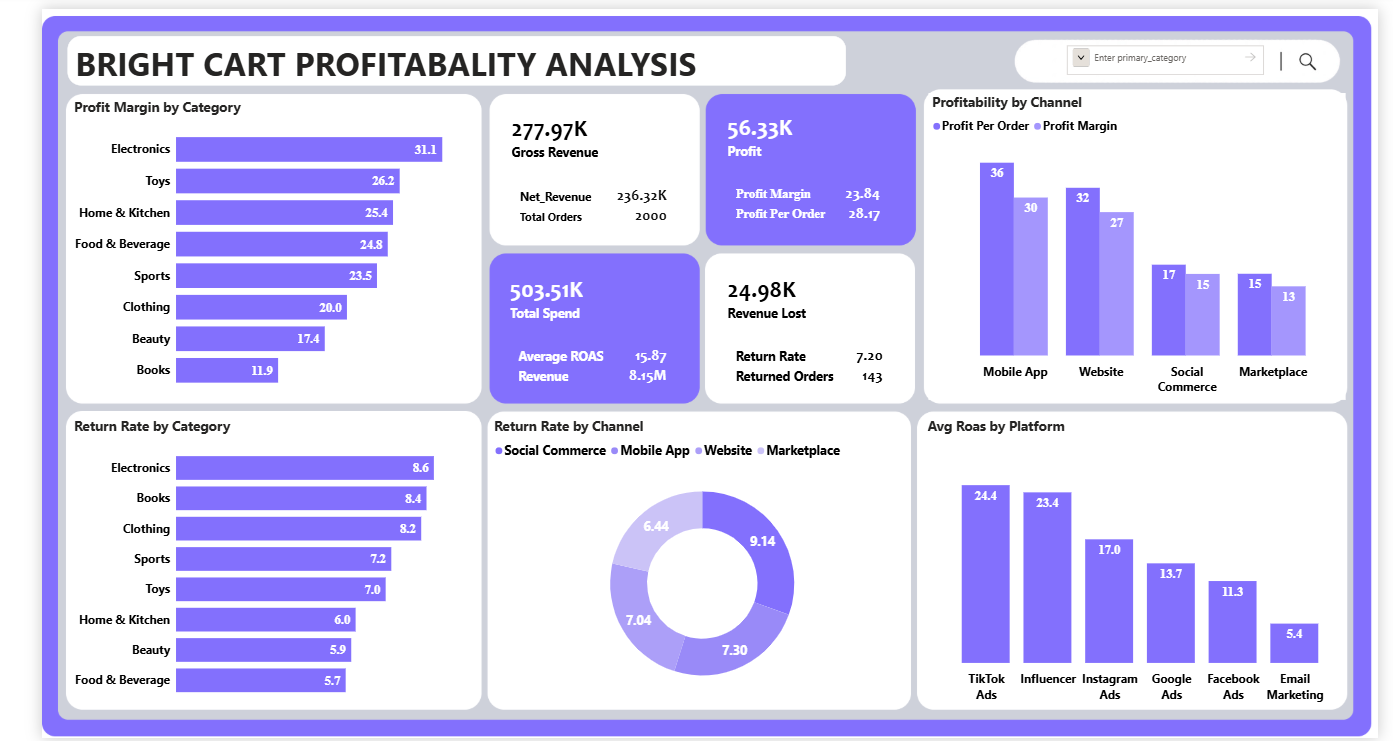

Layout of this report page (visuals, bound fields, positions):
{"tool":"powerbi","page":{"name":"Page 1","canvas":[1980,1080],"ordinal":0},"visuals":[{"type":"cardVisual","fields":{"Data":["Sum(orders.gross_revenue)"]},"box":[666.7,124.4,304.4,226.7],"z":0},{"type":"cardVisual","fields":{"Data":["marketing_spend.Total Spend"]},"box":[664.4,364.4,306.7,220],"z":1000},{"type":"cardVisual","fields":{"Data":["Sum(orders.profit)"]},"box":[986.7,124.4,300,220],"z":2000},{"type":"columnChart","title":"Avg Roas by Platform","fields":{"Category":["marketing_spend.platform"],"Y":["Avg(marketing_spend.roas)"]},"box":[1307.5,605,627.5,430],"z":3000},{"type":"cardVisual","fields":{"Data":["orders.Revenue_Lost"]},"box":[986.7,364.4,304.4,220],"z":4000},{"type":"clusteredBarChart","title":"Return Rate by Category","fields":{"Category":["orders.primary_category"],"Y":["orders.Returns"]},"box":[42.2,604.4,604.4,431.1],"z":5000},{"type":"donutChart","title":"Return Rate by Channel","fields":{"Category":["orders.channel"],"Y":["orders.Return Rate %"]},"box":[664.4,604.4,626.7,431.1],"z":6000},{"type":"clusteredColumnChart","title":"Profitability by Channel","fields":{"Category":["orders.channel"],"Y":["orders.Profit Per Order","orders.profit_margin"]},"box":[1313.6,125,618.2,454.5],"z":7000},{"type":"barChart","title":"Profit Margin by Category","fields":{"Category":["orders.primary_category"],"Y":["orders.profit_margin"]},"box":[42.2,131.1,604.4,446.7],"z":8000},{"type":"textSlicer","fields":{"Values":["orders.primary_category"]},"box":[1512.9,49.7,301.8,53.4],"z":9000},{"type":"textbox","title":"BRIGHT CART PROFITABALITY ANALYSIS","box":[37.8,40,1153.3,73.3],"z":10000}]}

Visuals, with their boxes in screenshot pixels (x1, y1, x2, y2), scaled from the page's 1980x1080 canvas onto the 1393x741 screenshot:
cardVisual - Sum(orders.gross_revenue): {"left": 469, "top": 85, "right": 683, "bottom": 241}
cardVisual - marketing_spend.Total Spend: {"left": 467, "top": 250, "right": 683, "bottom": 401}
cardVisual - Sum(orders.profit): {"left": 694, "top": 85, "right": 905, "bottom": 236}
"Avg Roas by Platform" columnChart: {"left": 920, "top": 415, "right": 1361, "bottom": 710}
cardVisual - orders.Revenue_Lost: {"left": 694, "top": 250, "right": 908, "bottom": 401}
"Return Rate by Category" clusteredBarChart: {"left": 30, "top": 415, "right": 455, "bottom": 710}
"Return Rate by Channel" donutChart: {"left": 467, "top": 415, "right": 908, "bottom": 710}
"Profitability by Channel" clusteredColumnChart: {"left": 924, "top": 86, "right": 1359, "bottom": 398}
"Profit Margin by Category" barChart: {"left": 30, "top": 90, "right": 455, "bottom": 396}
textSlicer - orders.primary_category: {"left": 1064, "top": 34, "right": 1277, "bottom": 71}
"BRIGHT CART PROFITABALITY ANALYSIS" textbox: {"left": 27, "top": 27, "right": 838, "bottom": 78}
